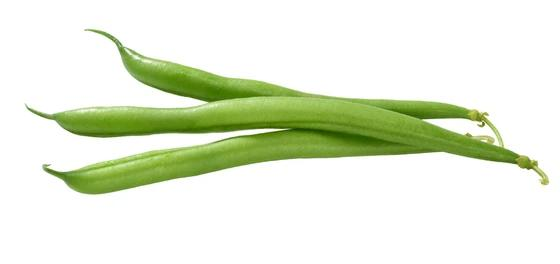organic: (28, 28, 546, 191)
